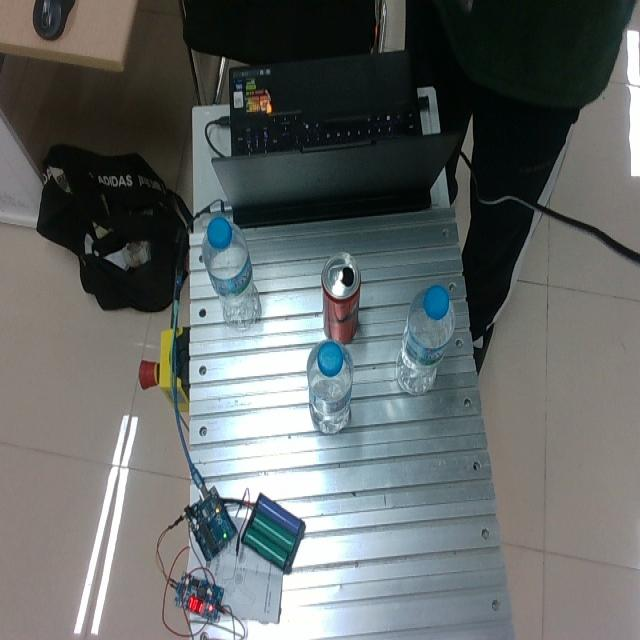coca: (321, 252, 362, 344)
lavie: (394, 284, 456, 397), (201, 215, 261, 329), (306, 340, 353, 432)
